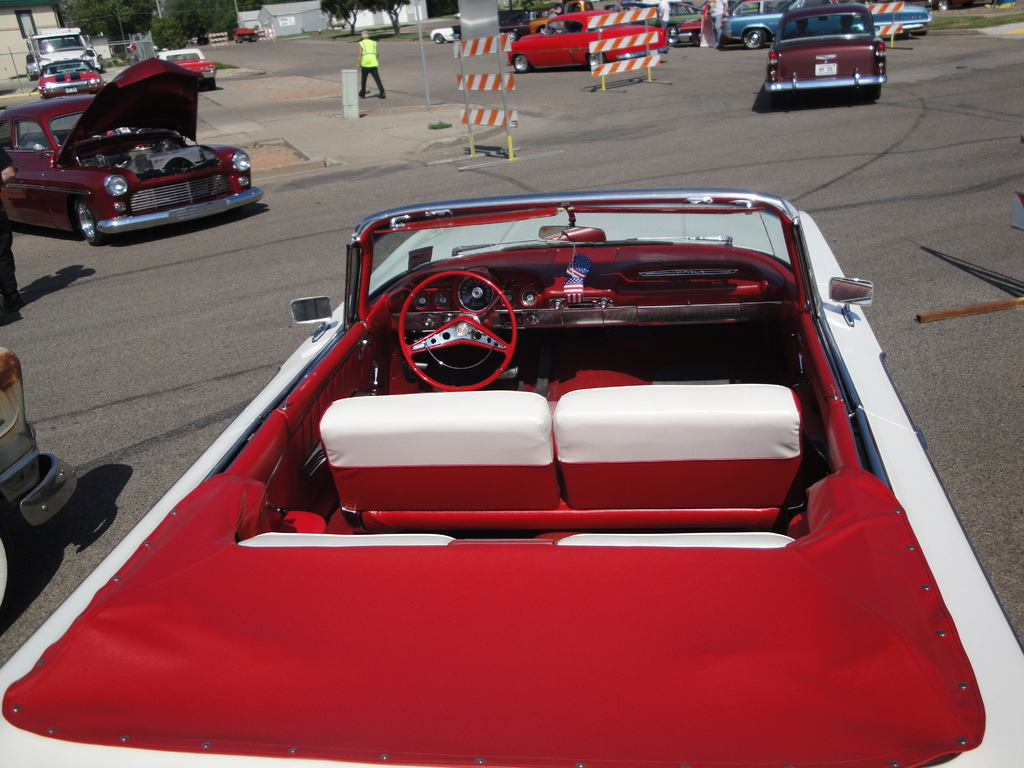Car: (0, 192, 1023, 765), (0, 56, 257, 244), (0, 341, 80, 555), (761, 2, 884, 88), (510, 8, 670, 74), (724, 0, 931, 49), (158, 44, 217, 89), (37, 62, 106, 96), (670, 0, 703, 23), (429, 22, 460, 42)
